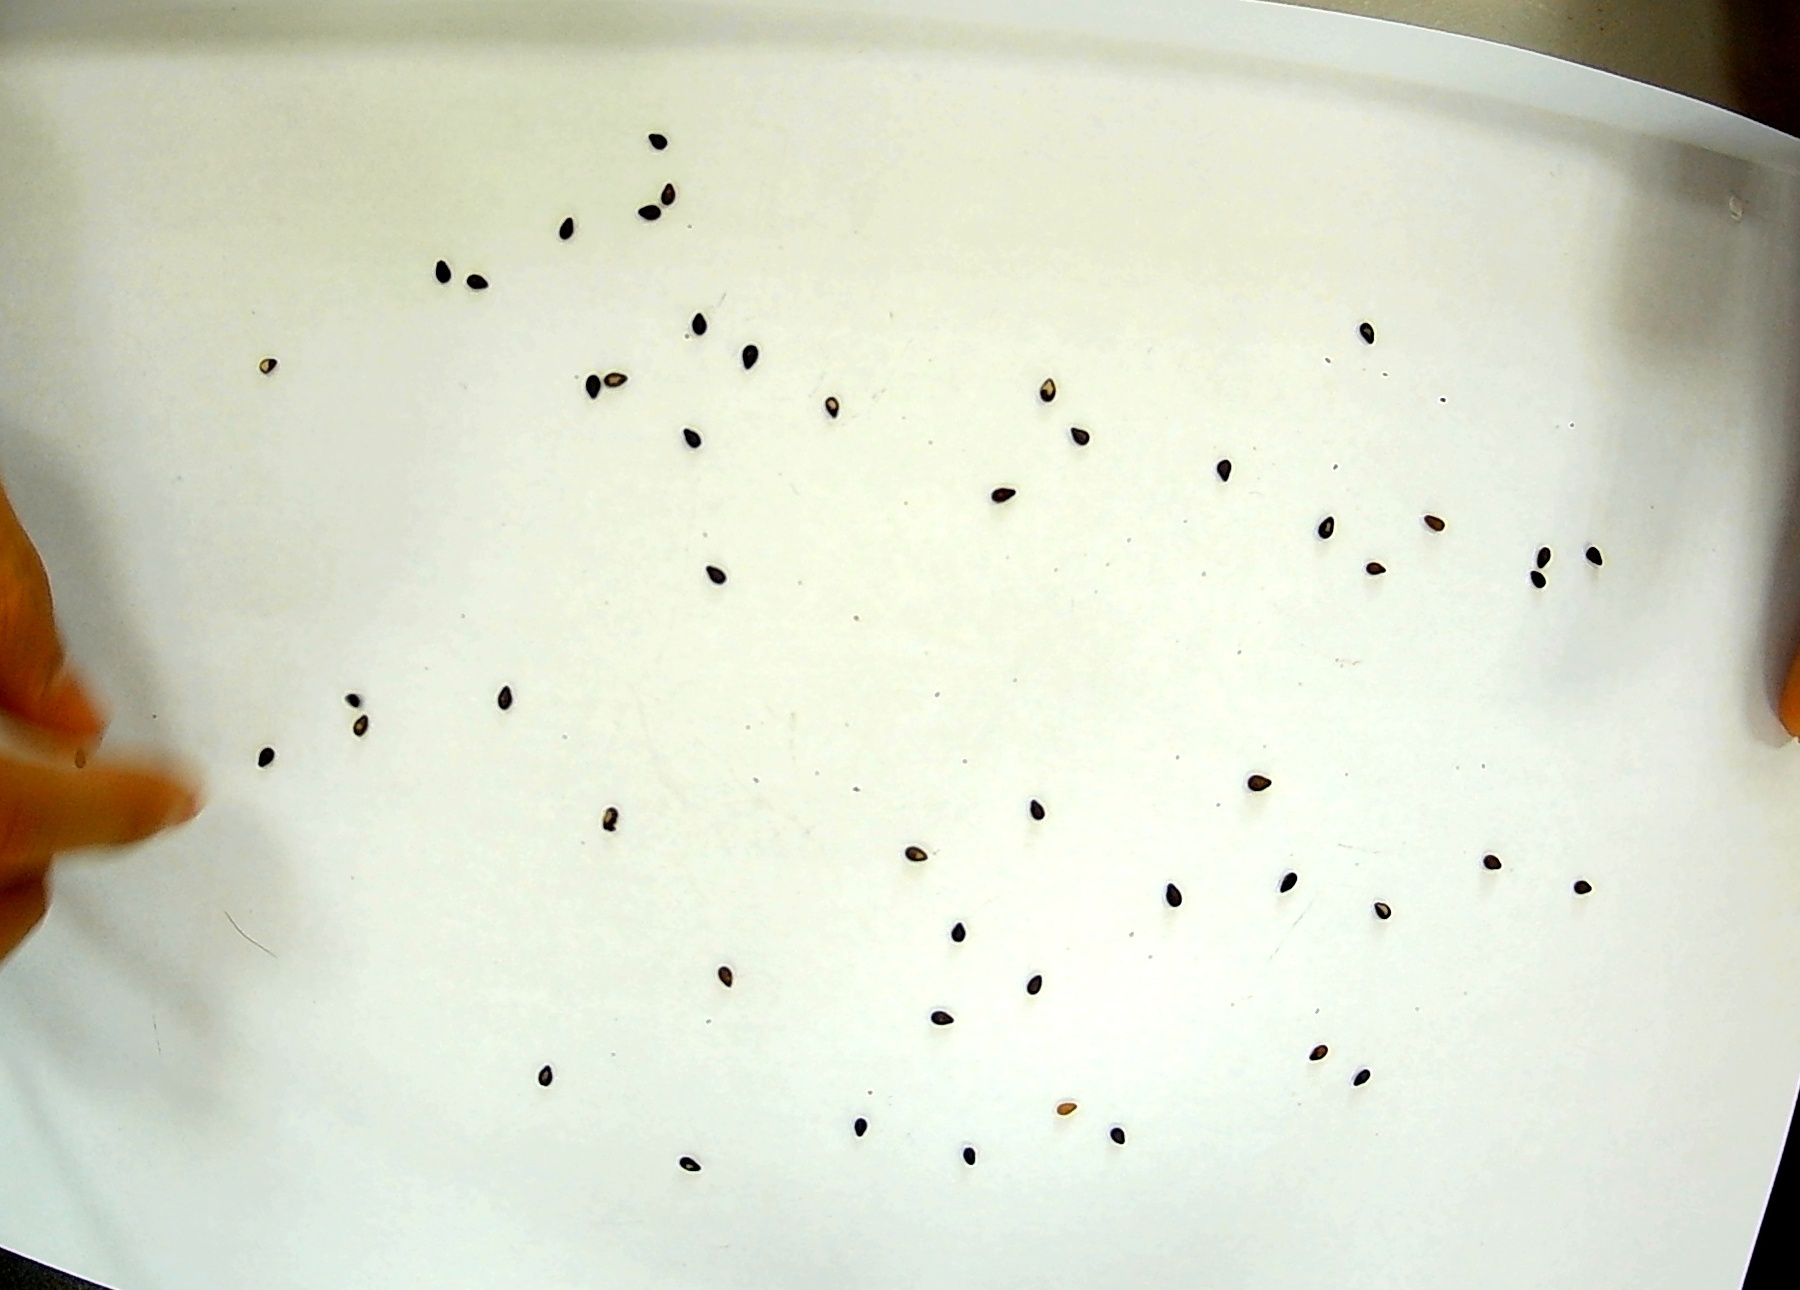sesami: (1363, 882, 1413, 935), (982, 470, 1019, 521), (1472, 847, 1520, 873), (467, 269, 508, 299), (594, 356, 635, 385), (681, 311, 721, 341), (802, 387, 843, 416), (1066, 415, 1107, 444), (1365, 314, 1405, 343), (1310, 514, 1351, 543), (1411, 512, 1451, 542), (933, 921, 974, 951), (1338, 1065, 1379, 1095), (1153, 882, 1193, 912), (1259, 867, 1299, 896), (674, 424, 714, 454), (1522, 539, 1563, 568), (699, 955, 740, 984), (1047, 1095, 1087, 1124), (960, 1141, 1000, 1170), (527, 1065, 568, 1095), (638, 124, 677, 154), (643, 207, 682, 236), (414, 265, 453, 295), (569, 370, 608, 399), (742, 336, 781, 366), (1042, 371, 1081, 401), (1208, 457, 1247, 486), (1365, 546, 1404, 575), (1515, 568, 1554, 598), (1580, 549, 1619, 578), (1102, 1128, 1141, 1157), (1296, 1041, 1335, 1071), (1014, 799, 1053, 828), (696, 563, 735, 592), (481, 677, 520, 706), (1573, 870, 1612, 899), (839, 1114, 878, 1143), (530, 1065, 569, 1095), (654, 181, 695, 209), (551, 216, 592, 244), (248, 348, 289, 376), (593, 806, 633, 833), (345, 713, 385, 741), (248, 746, 289, 773), (922, 1007, 961, 1035), (1014, 974, 1053, 1002), (901, 838, 940, 866), (327, 685, 366, 713), (1250, 766, 1289, 794), (673, 1148, 712, 1176)
